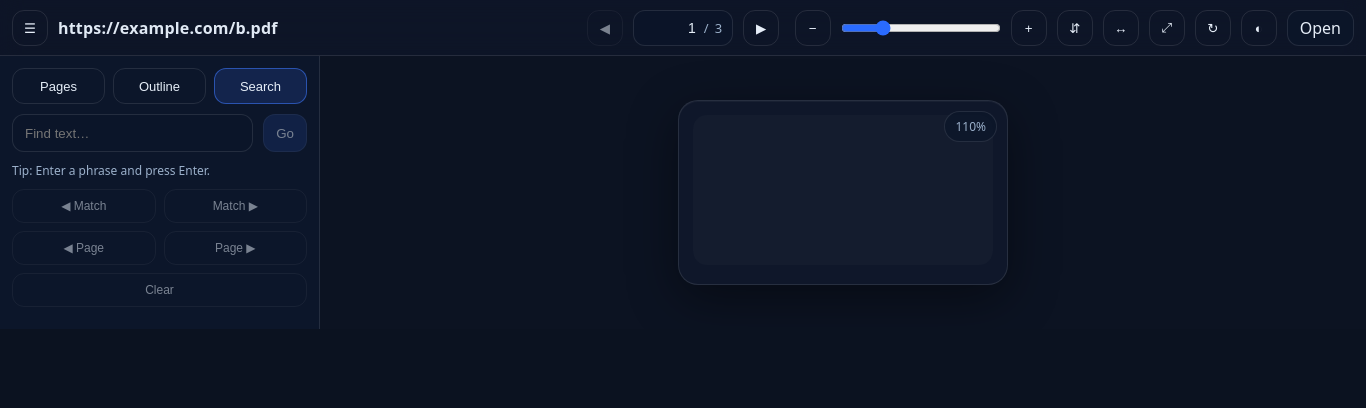
ViewerShell › searches and jumps to a result page
The image size is (1366, 408).
Expected: the button named "Next page" is enabled, x1=743 y1=10 x2=779 y2=46
In the field named "Search query": (133, 133) x1=12 y1=114 x2=253 y2=152, type "needle"
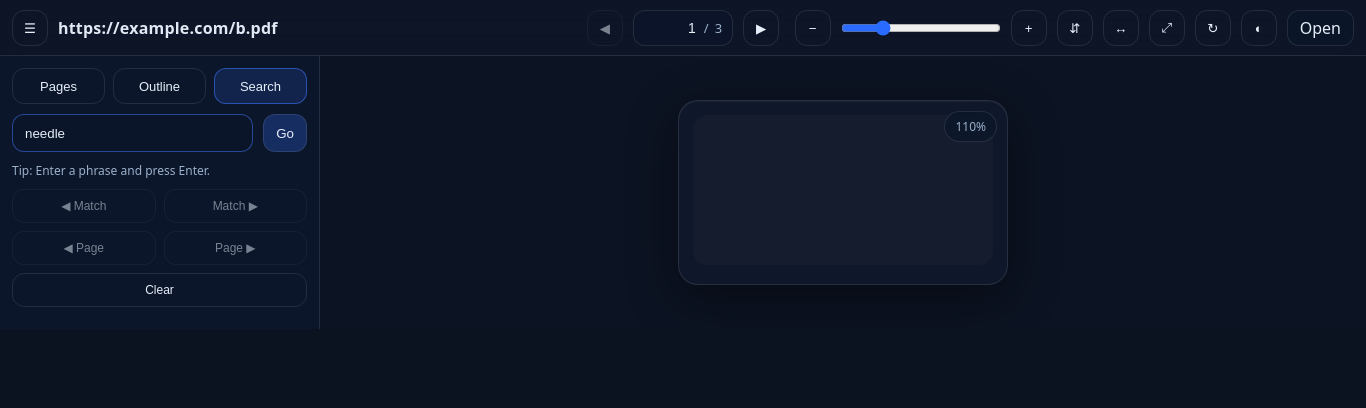
Press Enter
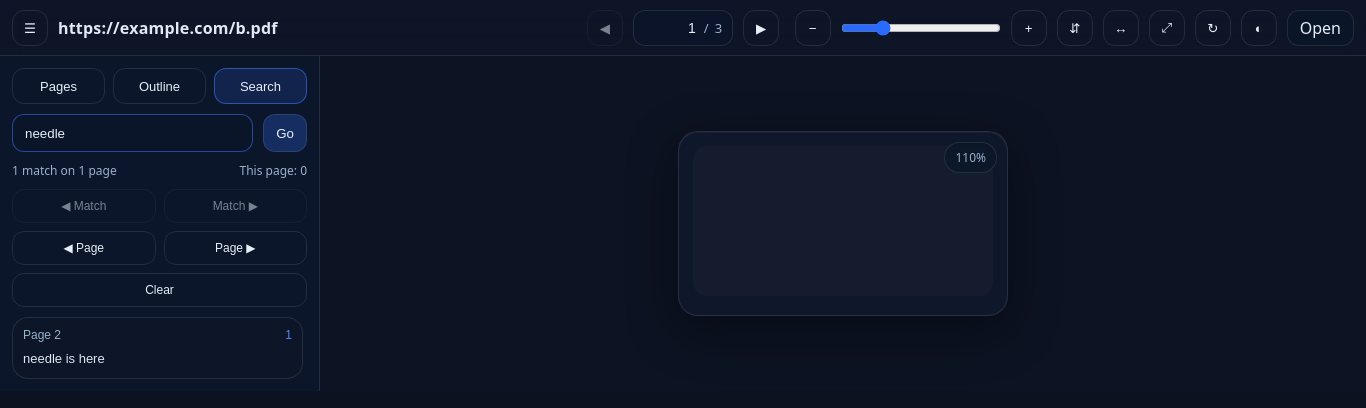
Expected: the text "Page 2" is shown
Click the text "Page 2": click(42, 335) x1=23 y1=328 x2=61 y2=342
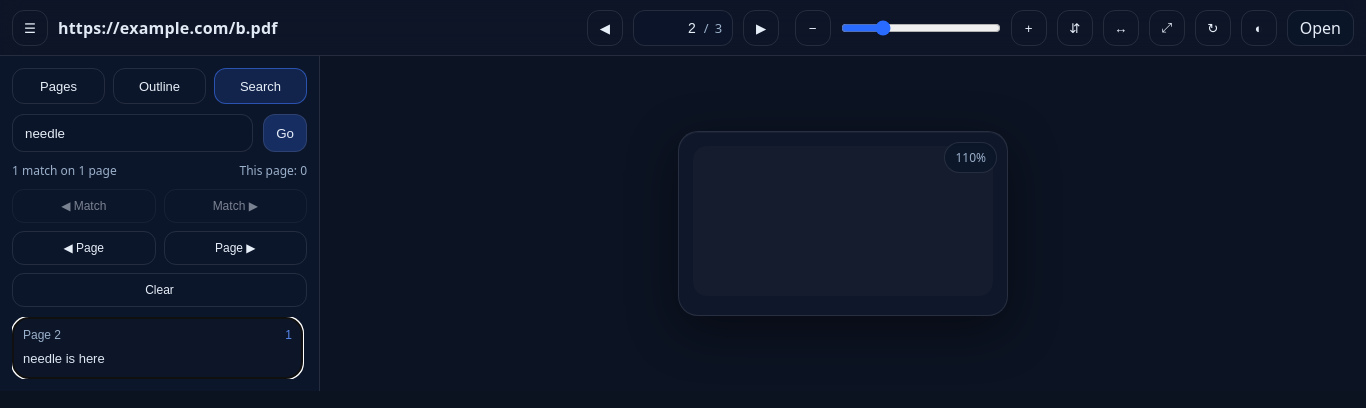
Expected: the field named "Page number" holds "2", x1=644 y1=19 x2=698 y2=37
